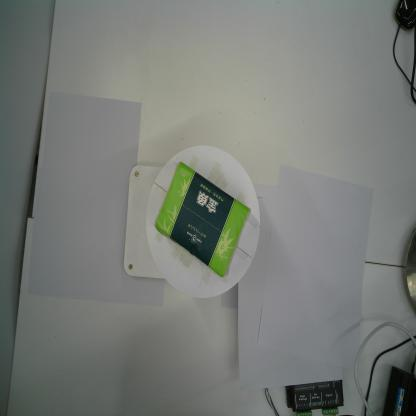Tissue: (153, 160, 252, 280)
